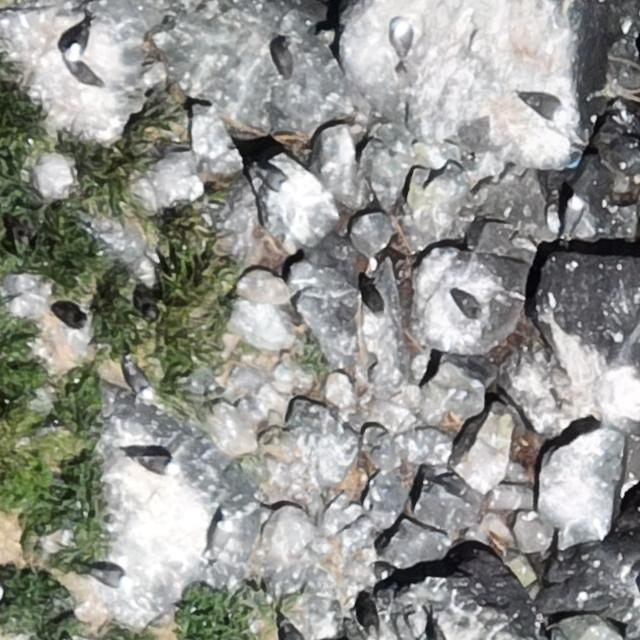umineko: (562, 193, 584, 243), (209, 520, 232, 566), (65, 22, 90, 62), (391, 18, 414, 58), (129, 367, 154, 399), (92, 571, 132, 590), (529, 96, 563, 117), (258, 169, 290, 190), (145, 458, 180, 477), (283, 623, 306, 639)
